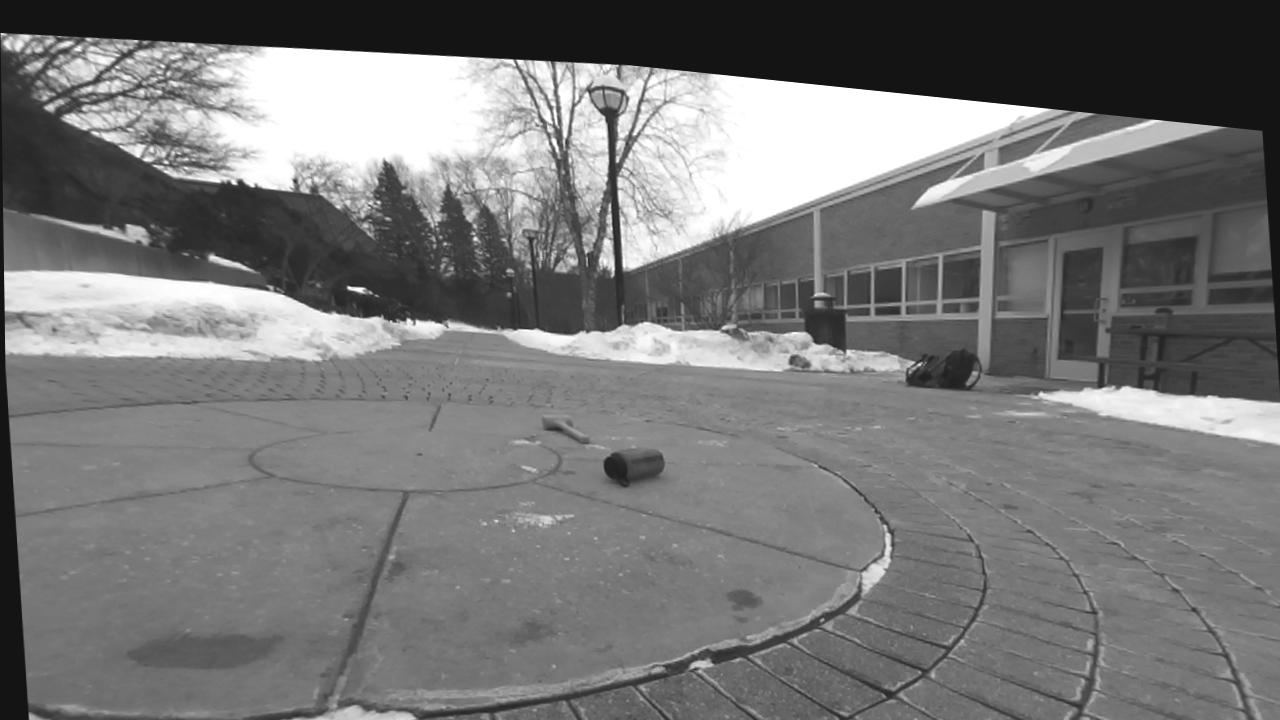bottle: (605, 449, 664, 486)
mallet: (542, 415, 590, 443)
